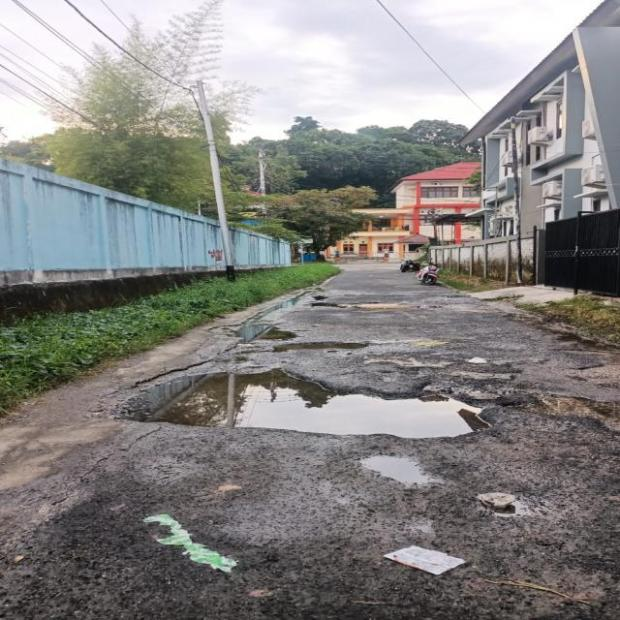lubang: (118, 369, 487, 437), (499, 390, 619, 433), (210, 311, 294, 354), (359, 455, 436, 487), (559, 350, 619, 385), (311, 296, 407, 311), (478, 494, 536, 515), (273, 341, 369, 353), (364, 356, 457, 368), (459, 356, 489, 369)
